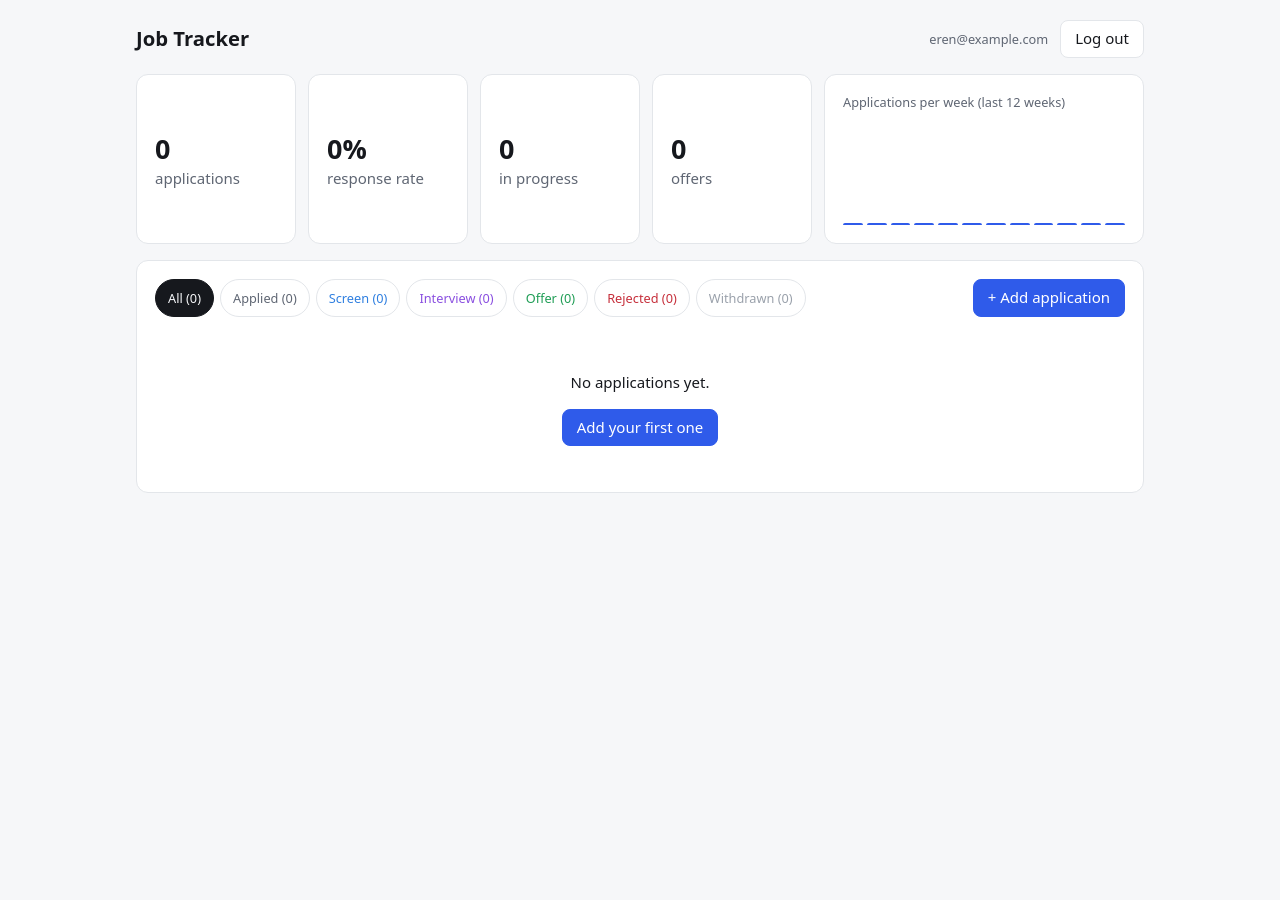
Scenario: Job Tracker › sends an expired session back to login with a notice
The image size is (1280, 900).
Expected: the text "No applications yet." is shown, [571, 372, 710, 392]
Click the button "+ Add application": (1049, 298) [973, 279, 1125, 317]
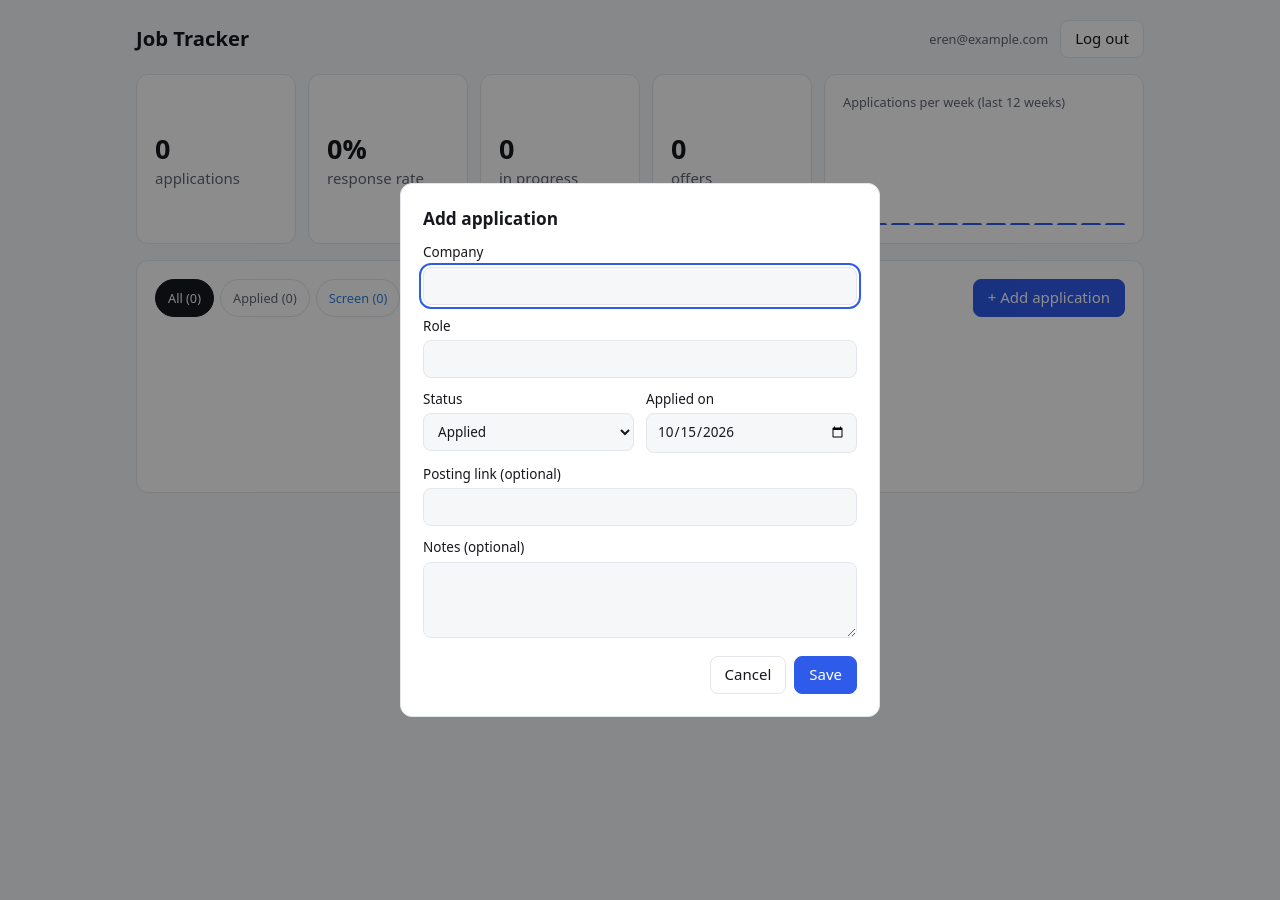
In the field labelled "Company": (640, 286) [423, 267, 857, 305], type "X"
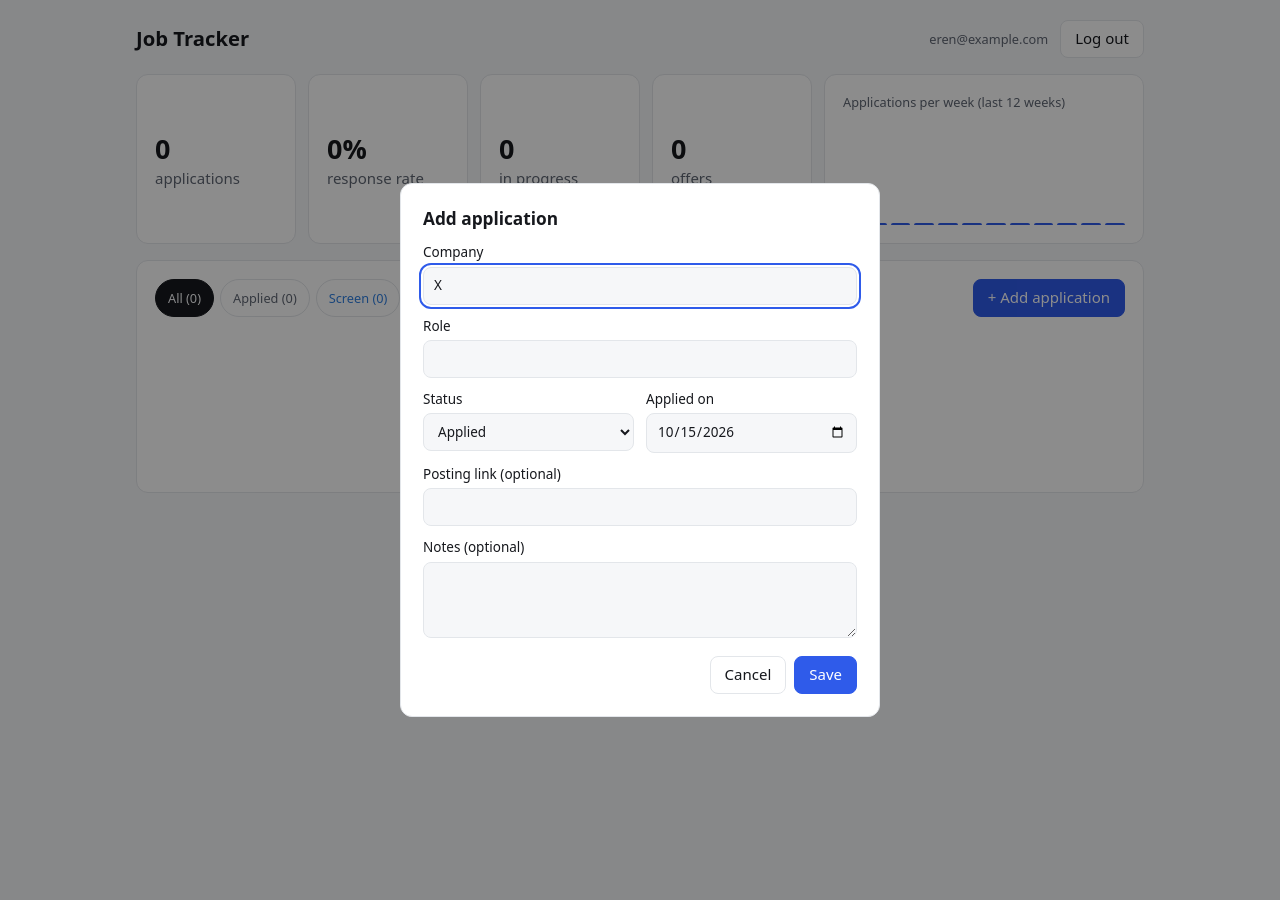
In the field labelled "Role": (640, 359) [423, 340, 857, 378], type "Y"
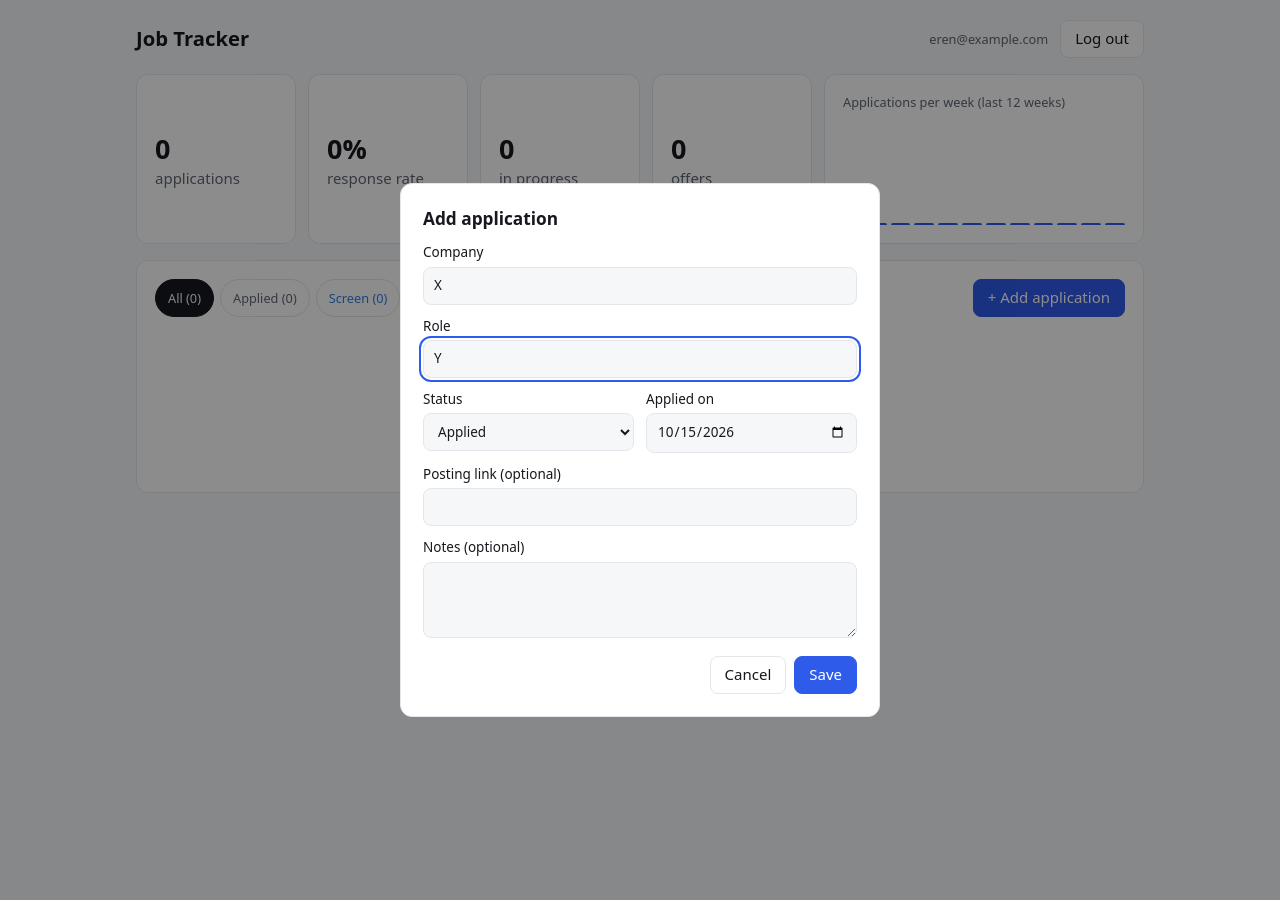
Click the button "Save": (826, 675) [794, 656, 857, 694]
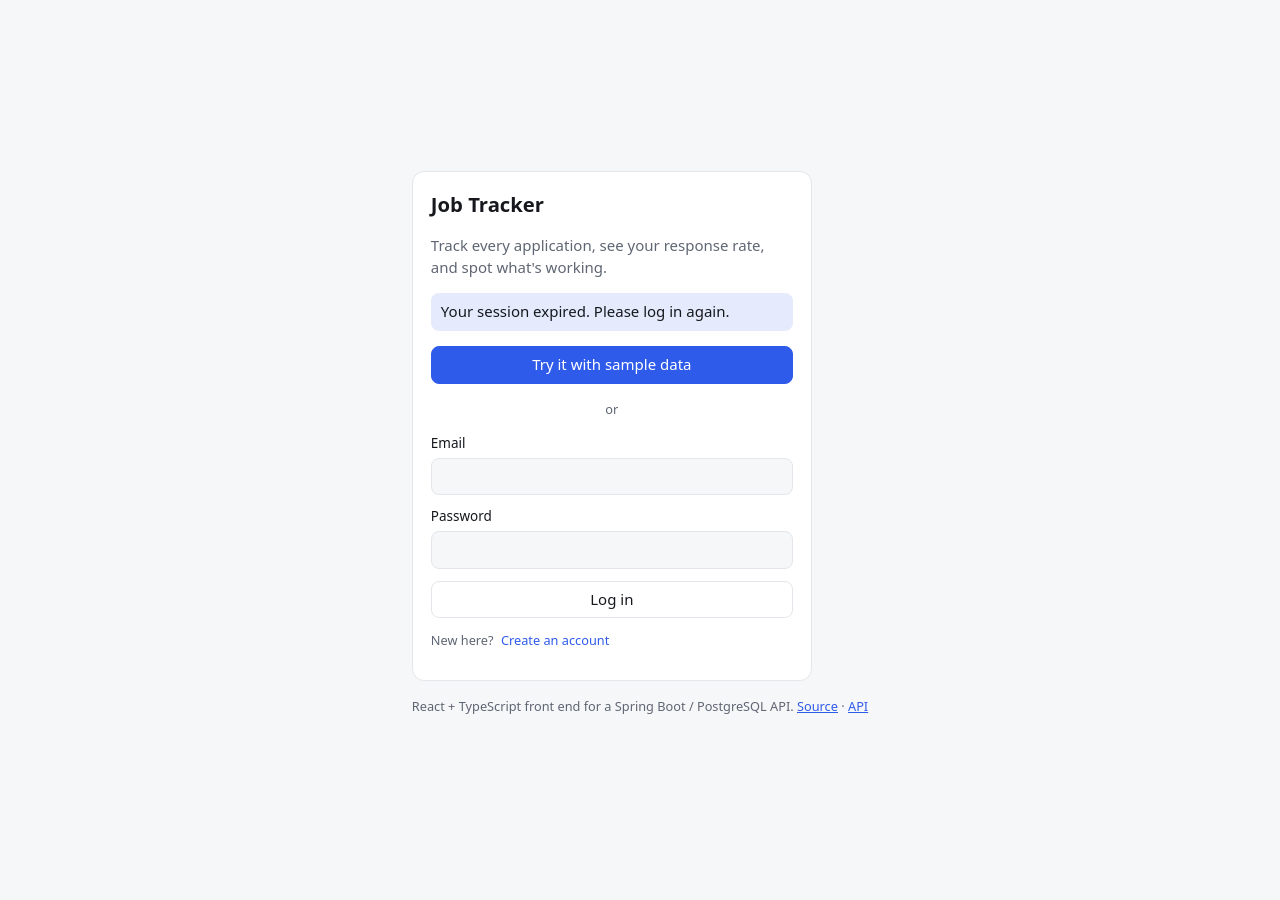
Now the text "Your session expired. Please log in again." is shown, box [431, 293, 793, 331]
